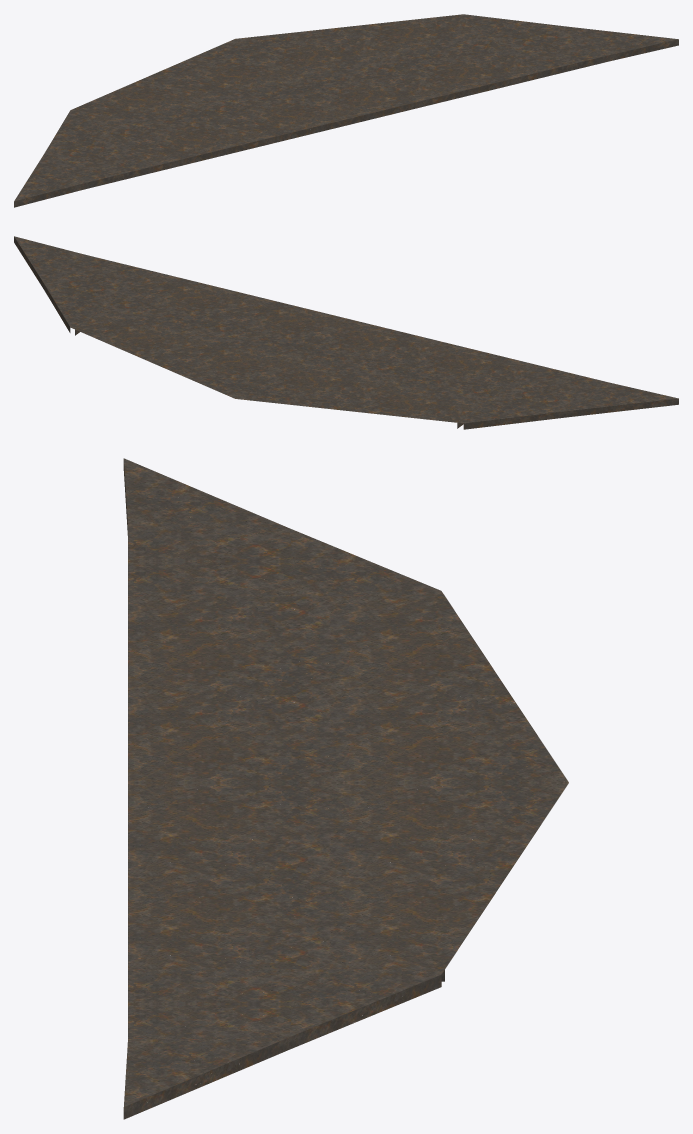
The picture shows the model from 3 angles, top to bottom: view 1: azimuth 30°, elevation 25°; view 2: azimuth 150°, elevation 25°; view 3: azimuth 270°, elevation 25°; orthographic projection. The views are drawn at different scales.
Parts seen in each view (by area): view 1: SM_DR_Grating_1x12_Spacing_LOD0; view 2: SM_DR_Grating_1x12_Spacing_LOD0; view 3: SM_DR_Grating_1x12_Spacing_LOD0.
Boxes of the visible parts, x1,y1,x2,y2 form: SM_DR_Grating_1x12_Spacing_LOD0: (14, 14, 678, 207); SM_DR_Grating_1x12_Spacing_LOD0: (14, 236, 678, 429); SM_DR_Grating_1x12_Spacing_LOD0: (123, 458, 568, 1119).
Bounding box in the file's own units: 27.85 × 0.2499 × 8.08.
